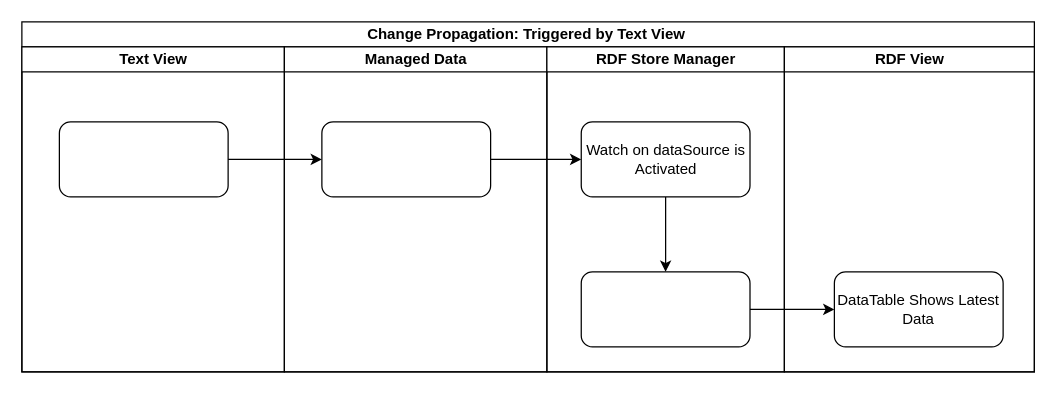
The diagram is 1056 pixels wide and 394 high, and some of its shapes have lost their labels. Here are the shapes that lost their labels. From the top down, the centre of each, then its label:
At (143,159): "User Changes JSON-LD Text Data".
At (406,159): "dataSource is Updated".
At (665,309): "Rebuilds RDF Statements".
